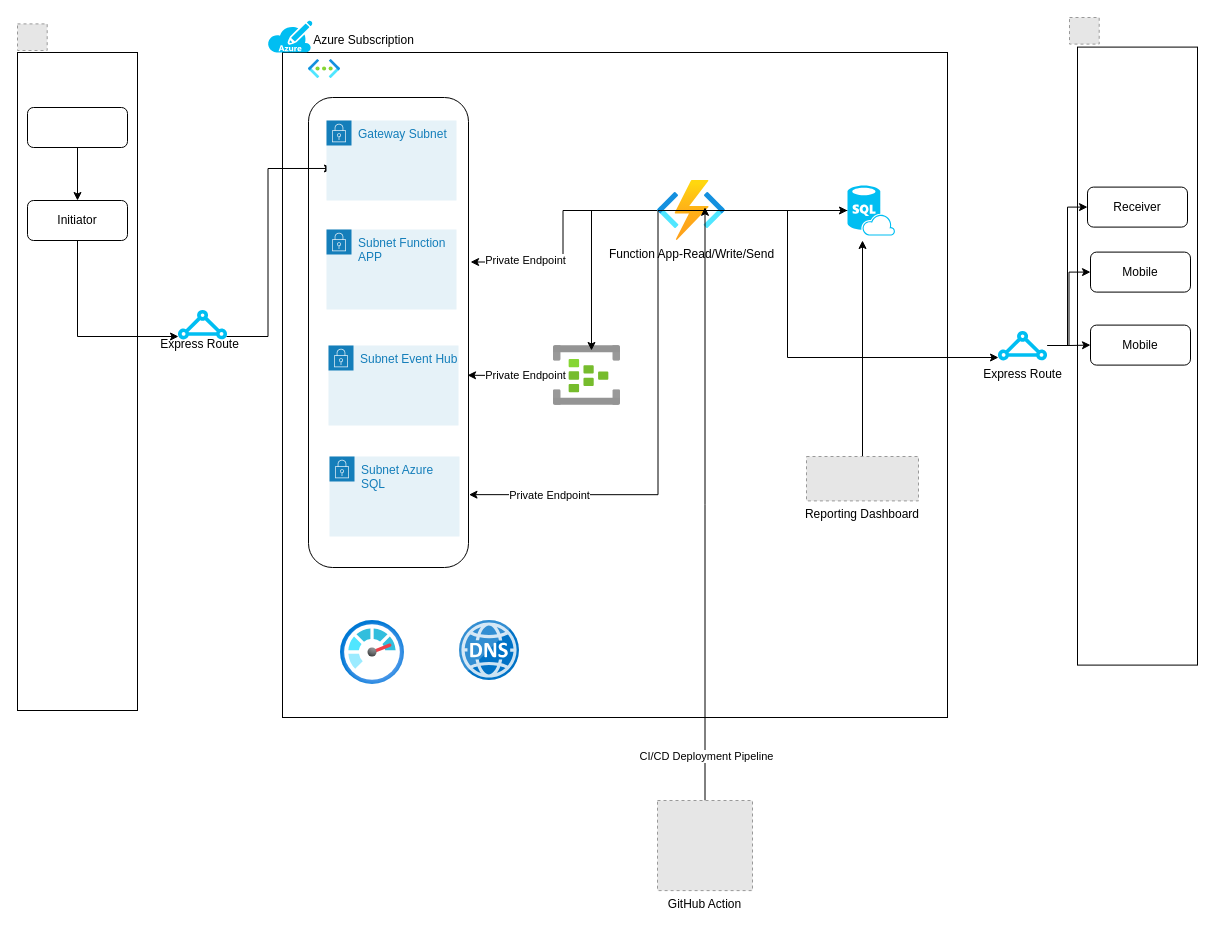
The diagram is 1215 pixels wide and 929 high, and some of its shapes have lost their labels. Grey dashed boxes stand in for pictures. The shapes that lost their labels are listed below. From the top down, each one's centre as x and y in pixels, then its label:
At point (324, 68): "Virtual Network".
At point (77, 127): "Legacy System".
At point (870, 210): "Metrics Database".
At point (586, 375): "Input EventHub".
At point (372, 652): "Azure Monitor".
At point (489, 650): "Azure DNS".
